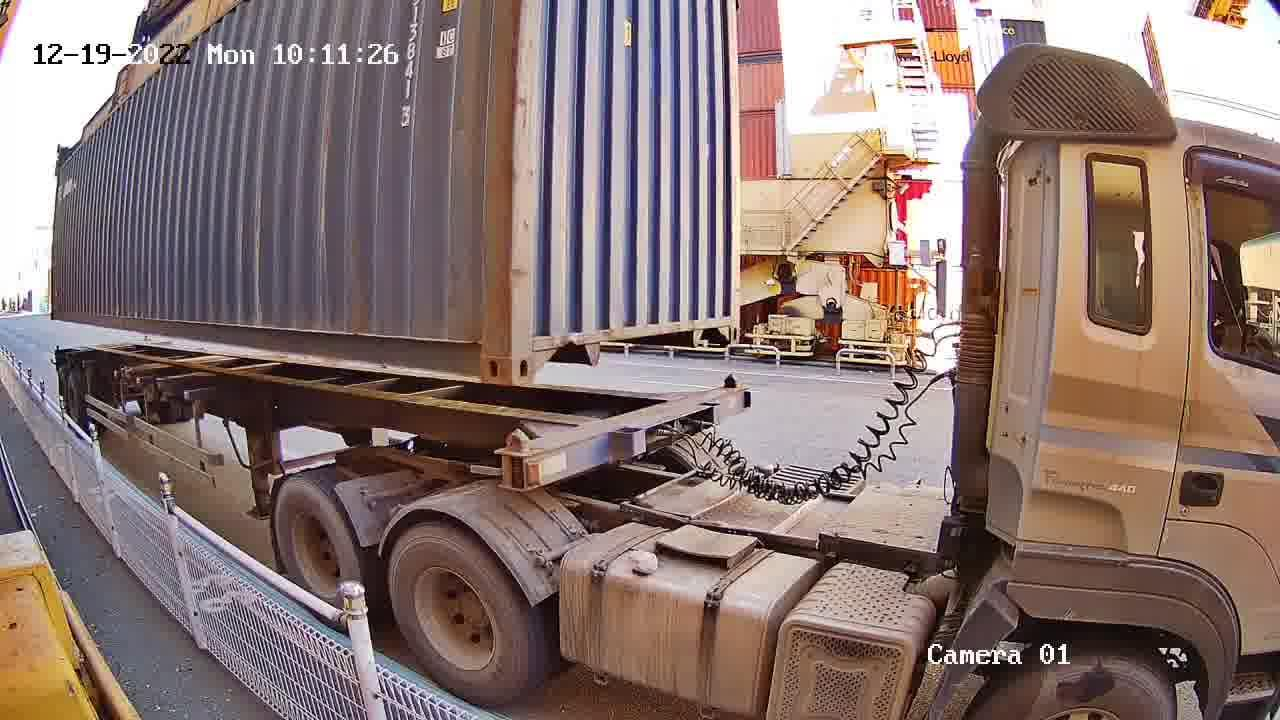Chassis: (495, 382, 750, 491)
Cone: (497, 427, 531, 493), (719, 368, 743, 394)
Hole_L: (512, 316, 561, 383)
Hole_R: (458, 320, 514, 388), (711, 299, 744, 345)
Tire: (391, 527, 527, 701), (275, 483, 357, 605)
